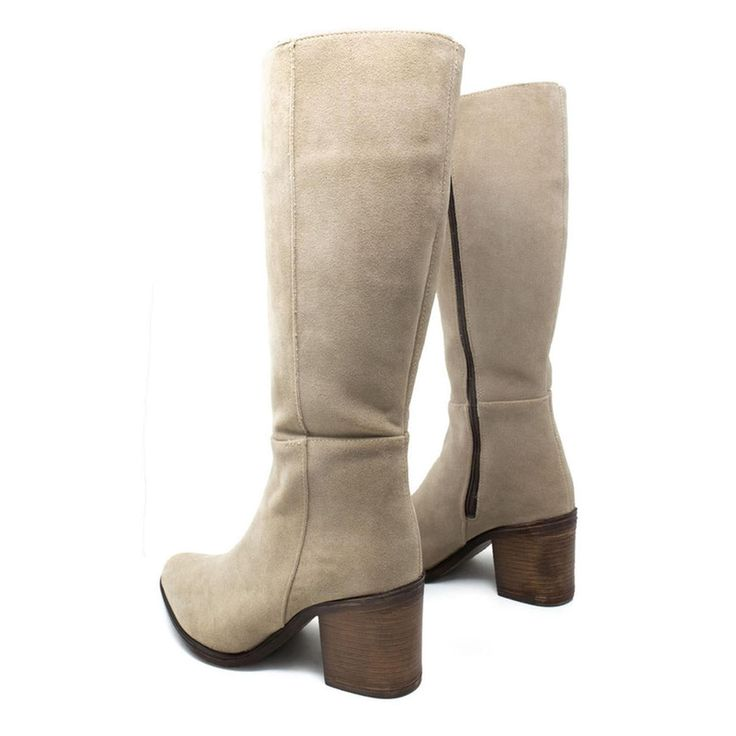gamuza: (160, 30, 576, 653)
